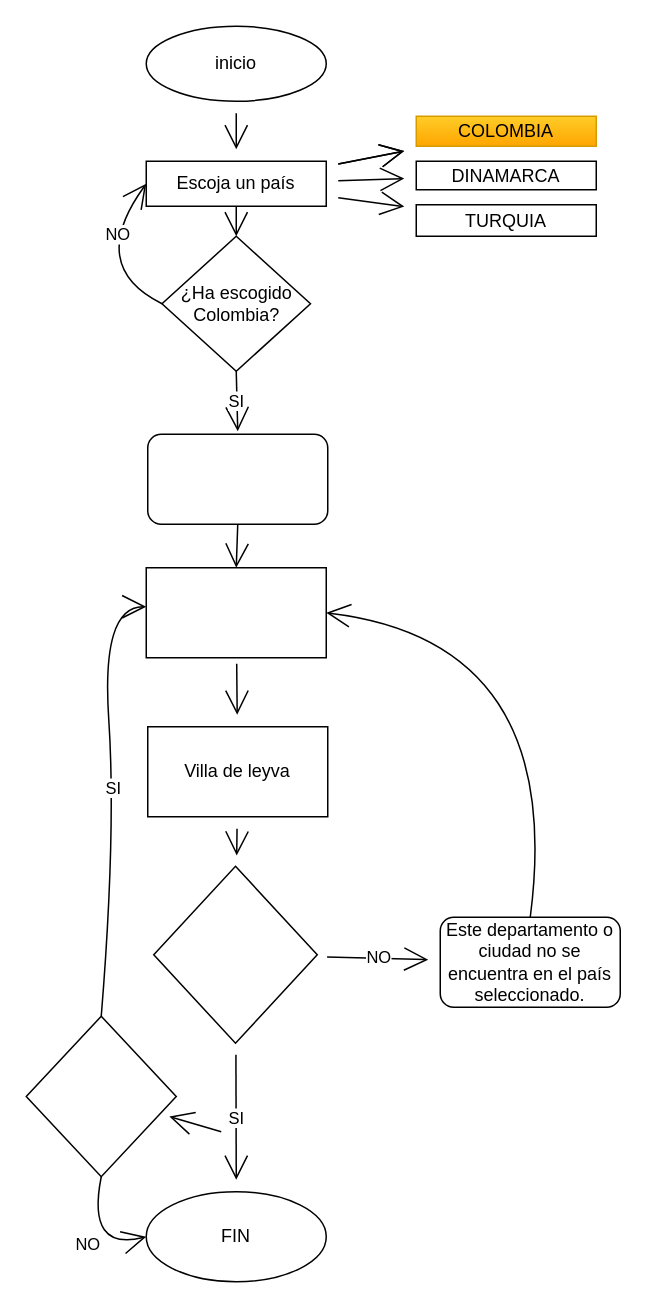
The diagram is 647 pixels wide and 1308 high, and some of its shapes have lost their labels. Each missing label, with the centre of its shape:
"Escribe una ciudad o departamento" belongs at pixel 235 612.
"Listado departamentos y ciudades de Colombia{1,2,3..}" belongs at pixel 237 478.
"¿Esta en el país COLOMBIA?" belongs at pixel 234 954.
"¿Quieres probar nuevamente?" belongs at pixel 100 1096.
